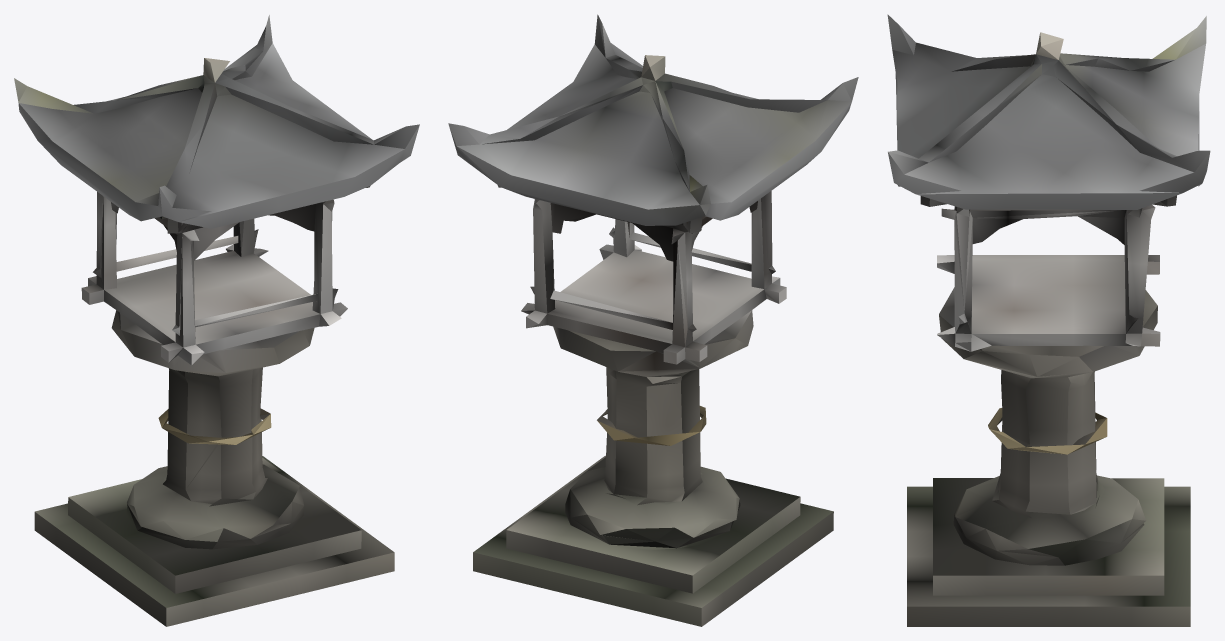
Rendered from great_lantern_far.glb.
3 renders of one model, left to right at view 1: azimuth 30°, elevation 25°; view 2: azimuth 150°, elevation 25°; view 3: azimuth 270°, elevation 25°, orthographic. The views are drawn at different scales.
Visible parts, largest first — view 1: great_lantern_far_LOD0; view 2: great_lantern_far_LOD0; view 3: great_lantern_far_LOD0.
Part boxes in pixels (left/top/right/bottom): great_lantern_far_LOD0: left=14, top=15, right=419, bottom=626; great_lantern_far_LOD0: left=448, top=14, right=858, bottom=626; great_lantern_far_LOD0: left=887, top=14, right=1210, bottom=626.
Bounding box in the file's own units: 2.96 × 5.35 × 2.95.
5 materials, 5 textured.
